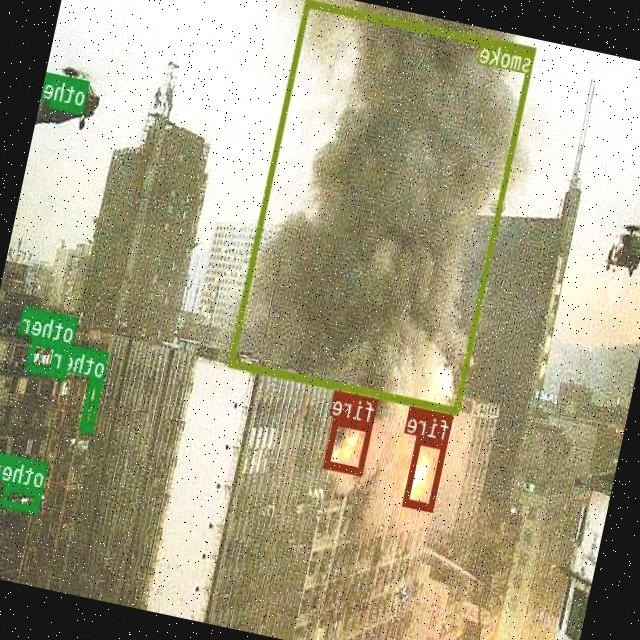fire: (403, 436, 448, 512), (324, 416, 374, 474)
smoke: (228, 0, 536, 414)
